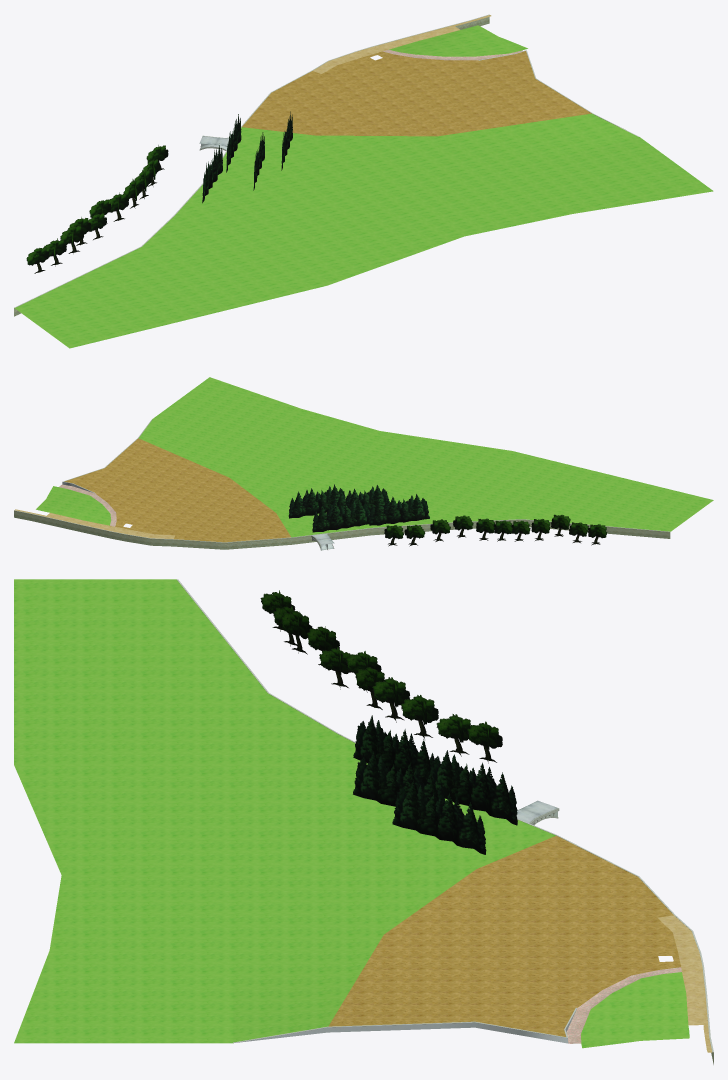
The picture shows the model from 3 angles, top to bottom: view 1: azimuth 30°, elevation 25°; view 2: azimuth 150°, elevation 25°; view 3: azimuth 270°, elevation 25°; orthographic projection. The views are drawn at different scales.
Visible parts, largest first — view 1: sa00ddflo000_001, ki009_07_000, sa00zkid00_000; view 2: sa00ddflo000_001, sa00zkid00_000, ki009_07_000; view 3: sa00ddflo000_001, sa00zkid00_000, ki009_07_000.
Boxes of the visible parts, x1,y1,x2,y2 form: sa00ddflo000_001: (14, 14, 713, 348); ki009_07_000: (26, 145, 168, 273); sa00zkid00_000: (202, 111, 292, 203); sa00ddflo000_001: (14, 377, 713, 549); sa00zkid00_000: (288, 484, 429, 532); ki009_07_000: (384, 514, 607, 546); sa00ddflo000_001: (14, 579, 713, 1064); sa00zkid00_000: (353, 715, 517, 854); ki009_07_000: (260, 590, 502, 763).
Bounding box in the file's own units: 383 × 24.81 × 239.
Materials: 11 (11 with a texture image).
